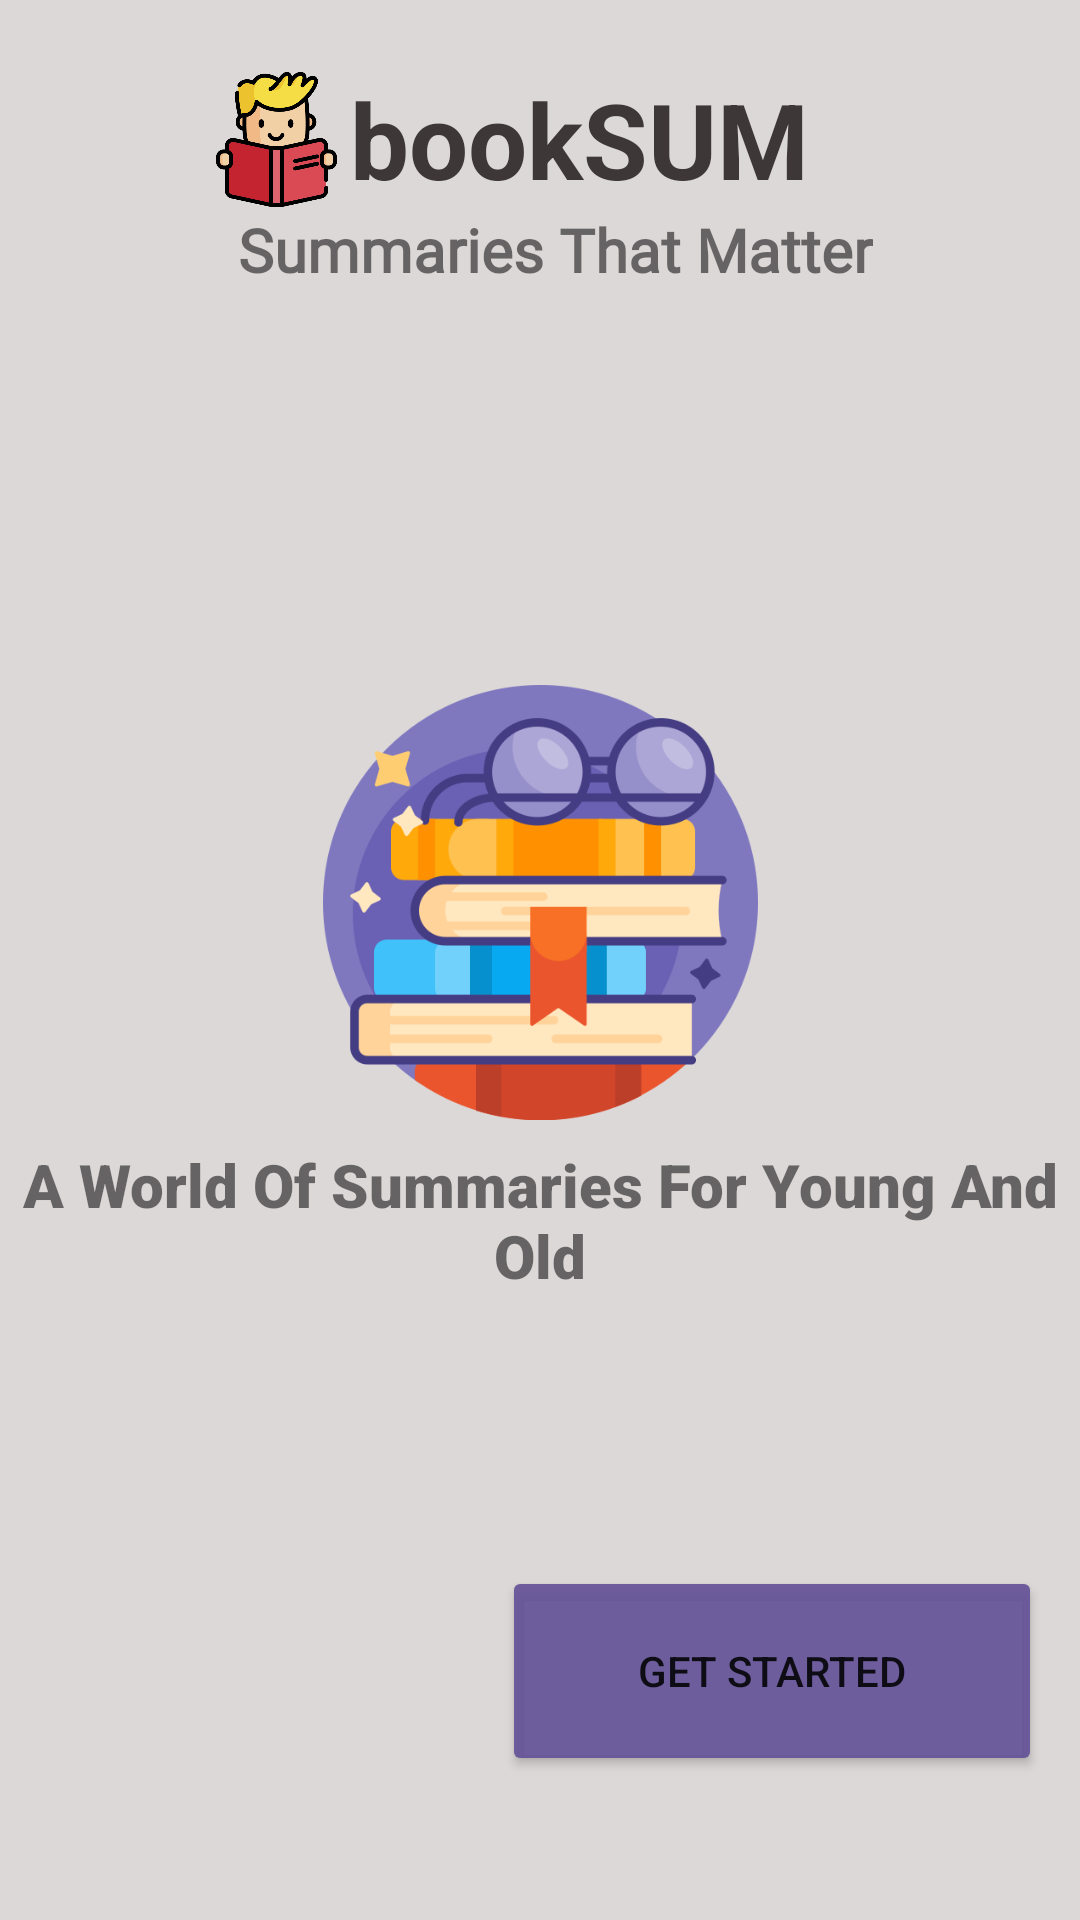

Point at icon controls on the screen. Image size 1080×1920, points as (x=x, y=y).
read: (x=276, y=139)
